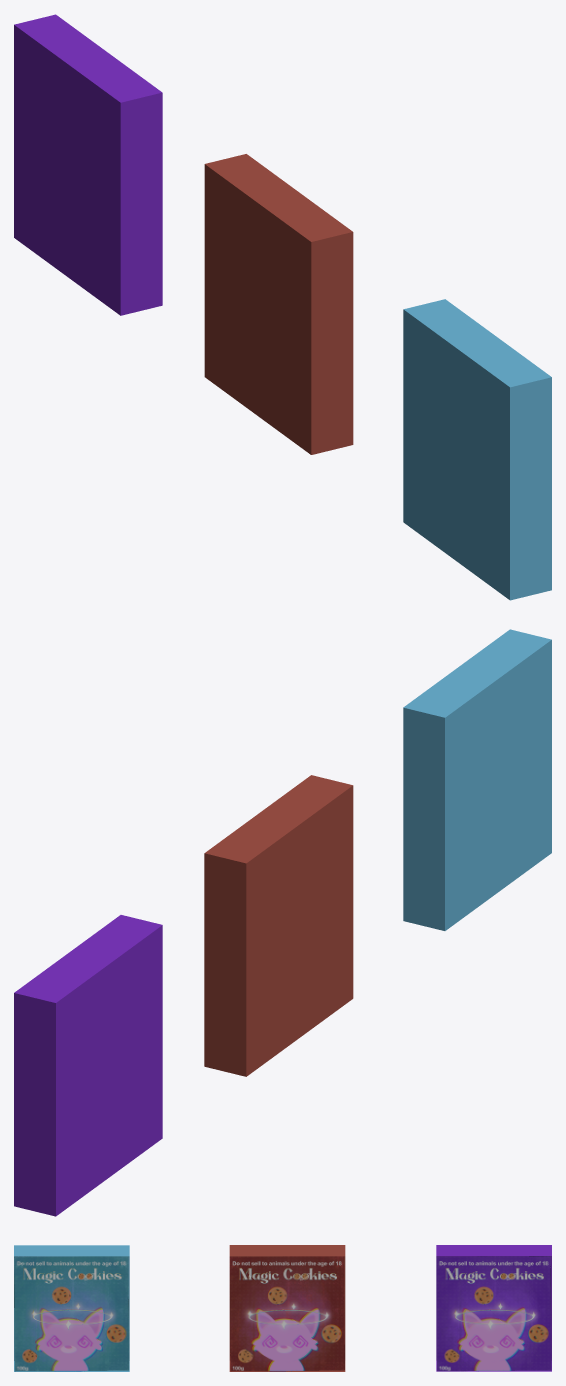
Rendered from magic cookies.fbx.
The picture shows the model from 3 angles, top to bottom: view 1: azimuth 30°, elevation 25°; view 2: azimuth 150°, elevation 25°; view 3: azimuth 270°, elevation 25°; orthographic projection. The views are drawn at different scales.
Parts seen in each view (by area): view 1: Cube.002, Cube, Cube.004; view 2: Cube.002, Cube, Cube.004; view 3: Cube.003, Cube.005, Cube.001, Cube.002, Cube.004, Cube.
Boxes of the visible parts, x1,y1,x2,y2 form: Cube.002: (204,154,353,454); Cube: (14,14,162,315); Cube.004: (403,299,551,600); Cube.002: (204,775,353,1076); Cube: (14,915,162,1216); Cube.004: (403,629,551,930); Cube.003: (229,1256,344,1371); Cube.005: (14,1256,129,1371); Cube.001: (436,1256,551,1371); Cube.002: (229,1245,345,1371); Cube.004: (14,1245,129,1371); Cube: (436,1245,551,1371).
Bounding box in the file's own units: 41.57 × 200 × 843.
